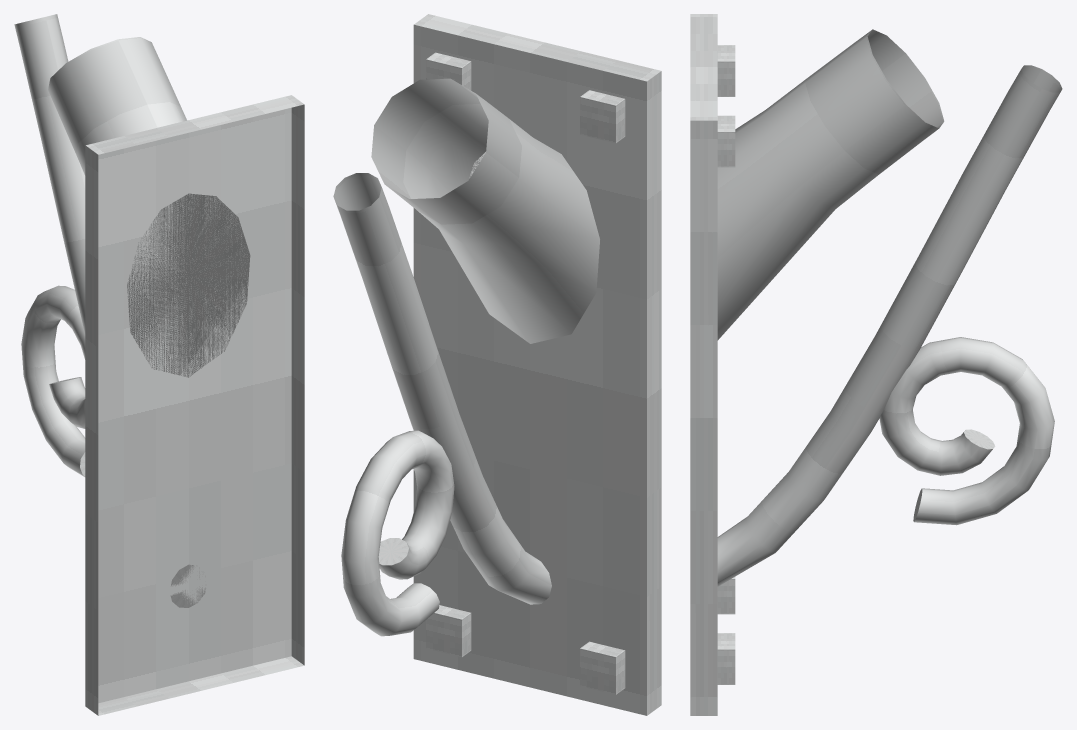
Rendered from luminairearm_anaheim8ft_c0_wall.obj.
3 renders of one model, left to right at view 1: azimuth 30°, elevation 25°; view 2: azimuth 150°, elevation 25°; view 3: azimuth 270°, elevation 25°, orthographic. The views are drawn at different scales.
Parts seen in each view (by area): view 1: luminairearm_anaheim8ft_c0_wall; view 2: luminairearm_anaheim8ft_c0_wall; view 3: luminairearm_anaheim8ft_c0_wall.
Boxes of the visible parts, x1,y1,x2,y2 form: luminairearm_anaheim8ft_c0_wall: [14, 14, 304, 715]; luminairearm_anaheim8ft_c0_wall: [333, 14, 661, 715]; luminairearm_anaheim8ft_c0_wall: [690, 14, 1062, 715].
Size of the model in its own units: 0.4047 by 1.11 by 0.5961.
